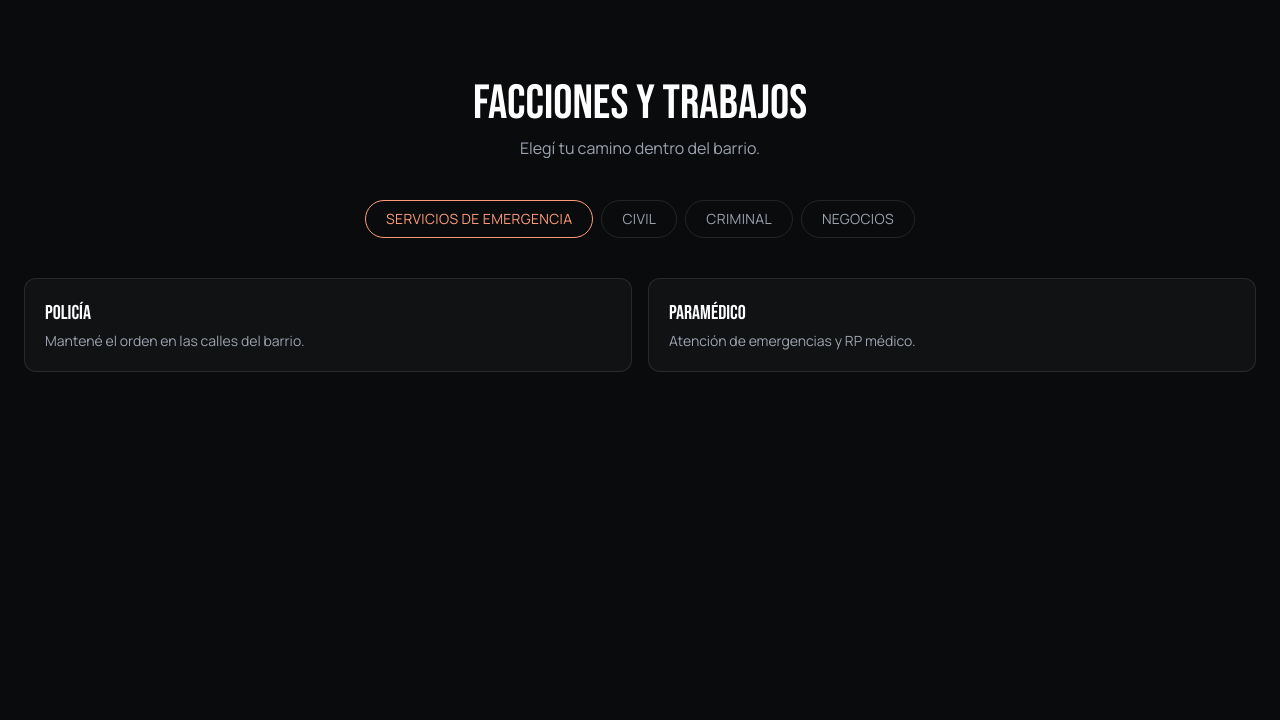
Scenario: Facciones › shows the first category's jobs by default and switches on tab click
Expected: the heading "Policía" is shown, [45,301,91,325]
Expected: the text "Repartidor de Pizzas" is not shown
Click the tab "Civil" at (639, 219), box [602,200,677,238]
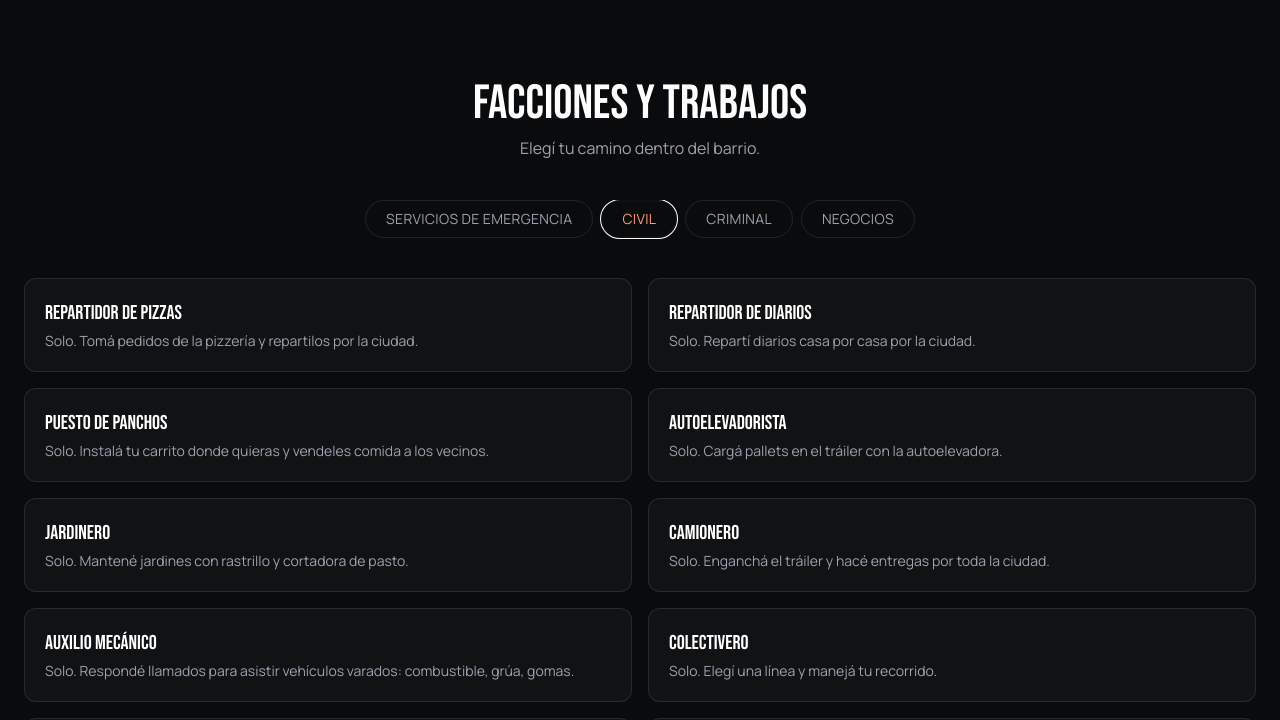
Expected: the heading "Repartidor de Pizzas" is shown, [45,301,182,325]
Expected: the heading "Policía" is gone
